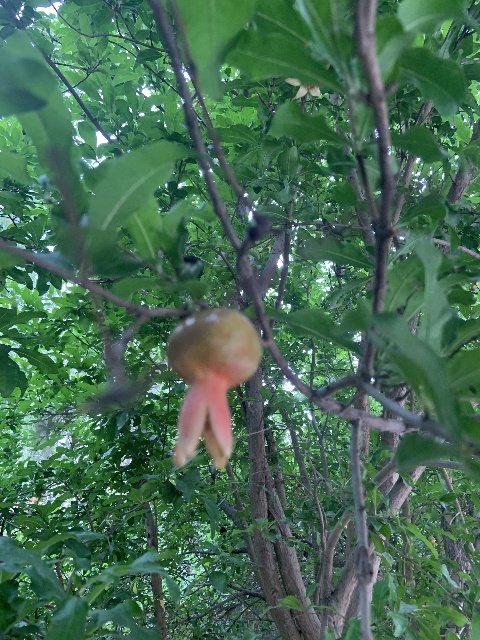early-fruit: (167, 307, 260, 469)
